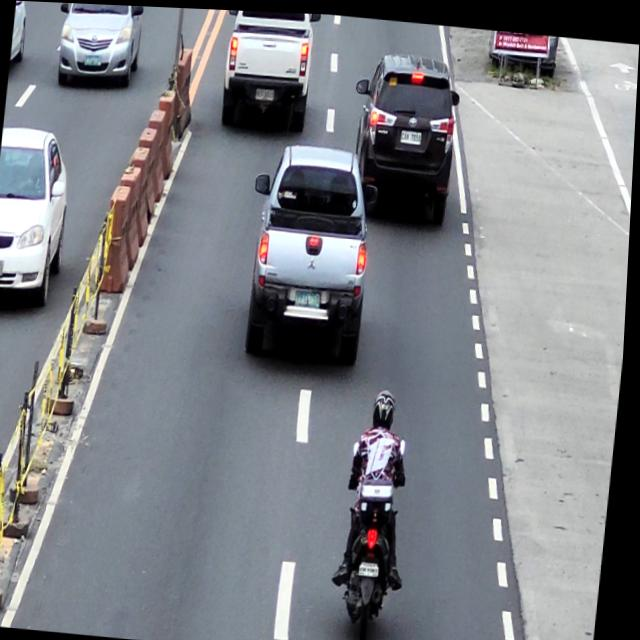Car: (240, 138, 385, 367), (345, 47, 466, 223), (0, 124, 76, 310), (217, 8, 321, 131), (52, 2, 146, 93), (10, 0, 29, 70)
License-Plate: (298, 287, 324, 307), (401, 126, 423, 142), (364, 559, 385, 574), (256, 86, 275, 99), (84, 54, 103, 66), (0, 261, 7, 275)
Motorcycle: (339, 429, 414, 640)
